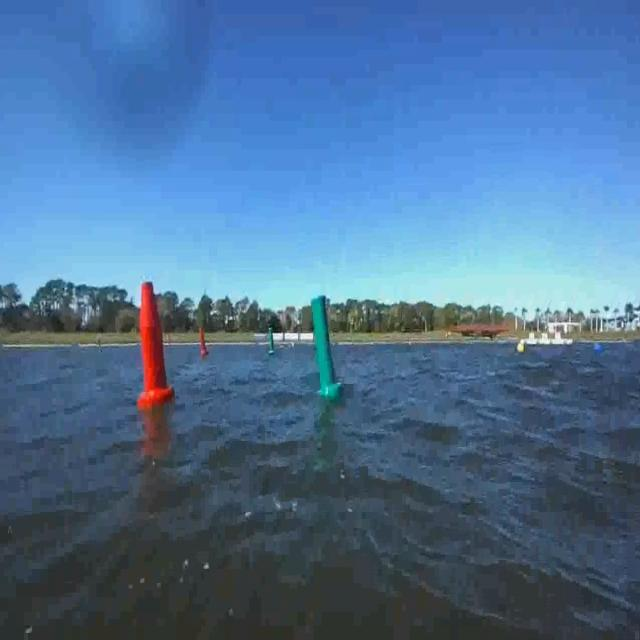blue-buoy: (594, 342, 604, 358)
green-column-buoy: (308, 292, 344, 401), (268, 328, 278, 357)
red-column-buoy: (136, 278, 174, 409), (200, 329, 210, 357)
yellow-buoy: (515, 341, 524, 356)
